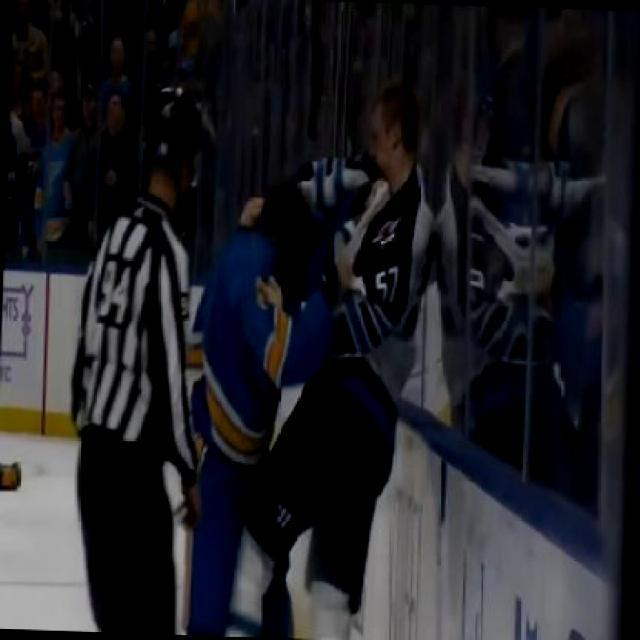fight: (188, 67, 436, 606)
non-fight: (63, 87, 205, 636)
